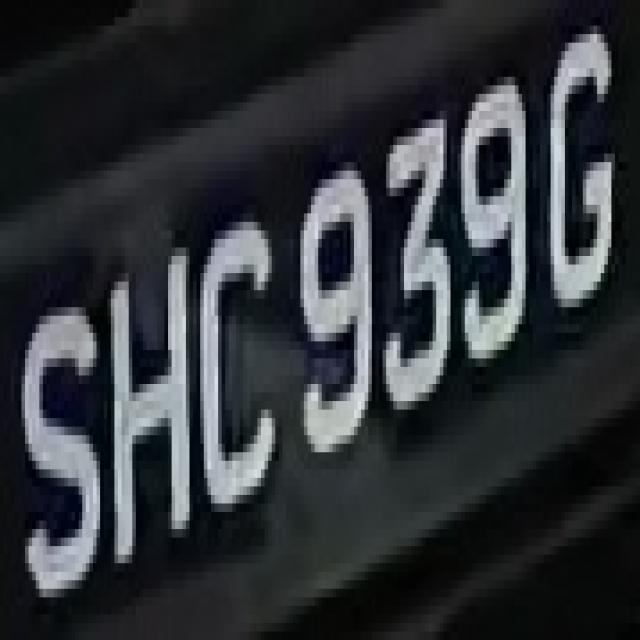3: (379, 94, 454, 427)
9: (300, 145, 379, 512), (454, 68, 529, 393)
C: (179, 205, 293, 529)
G: (540, 25, 626, 350)
H: (100, 222, 200, 555)
S: (14, 290, 104, 589)
